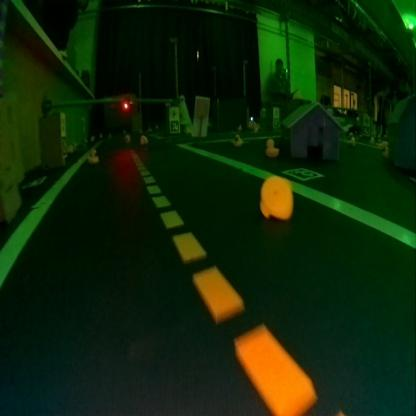Duckie: (260, 176, 291, 217), (265, 139, 279, 157), (88, 151, 98, 163), (233, 134, 242, 146), (140, 134, 147, 143), (124, 134, 130, 143)
Intersection sign: (169, 107, 178, 119)
QR code: (284, 166, 316, 182), (170, 120, 178, 131)
